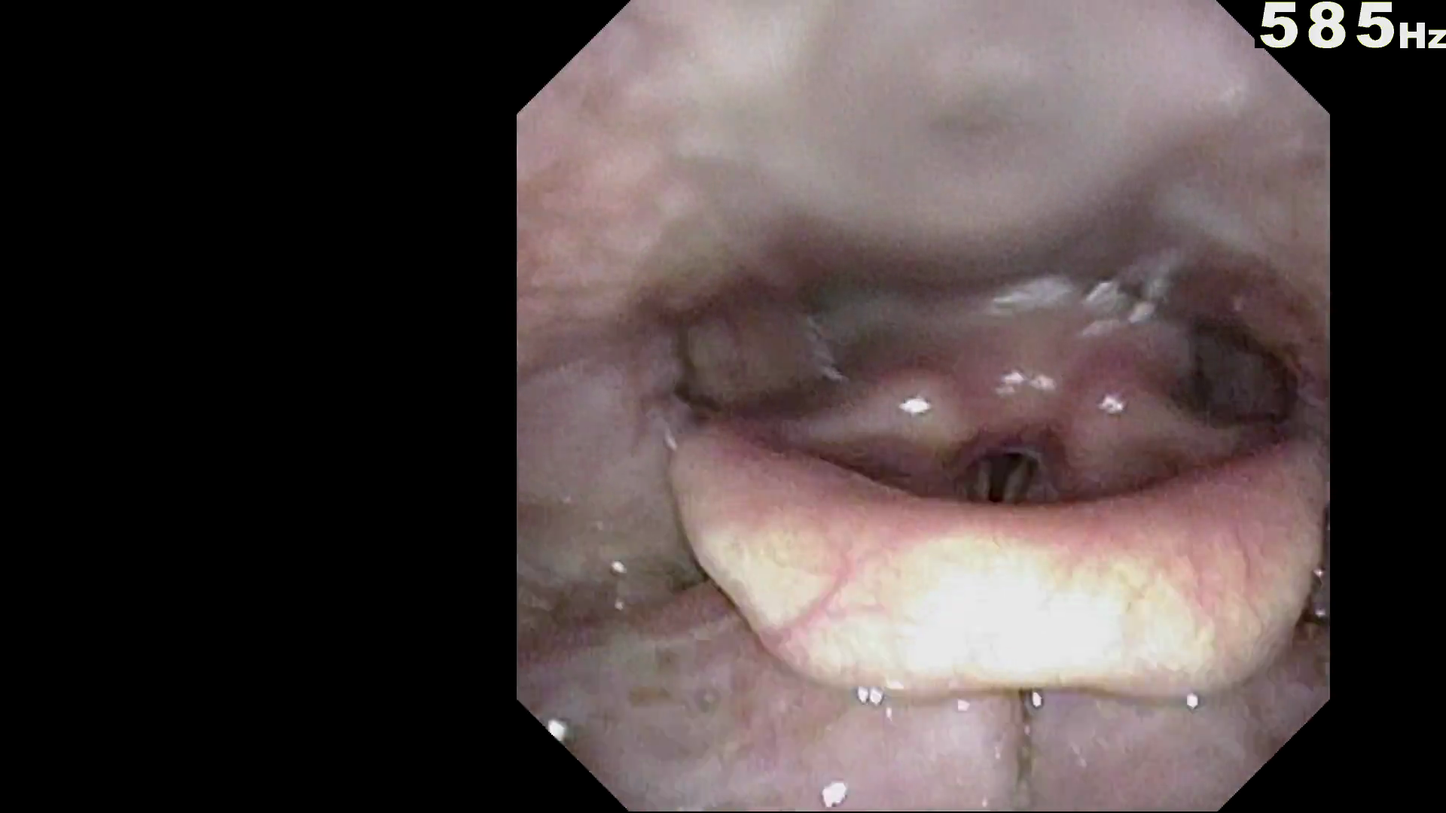epiglottis: (654, 371, 1320, 672)
trachea: (941, 422, 1071, 495)
